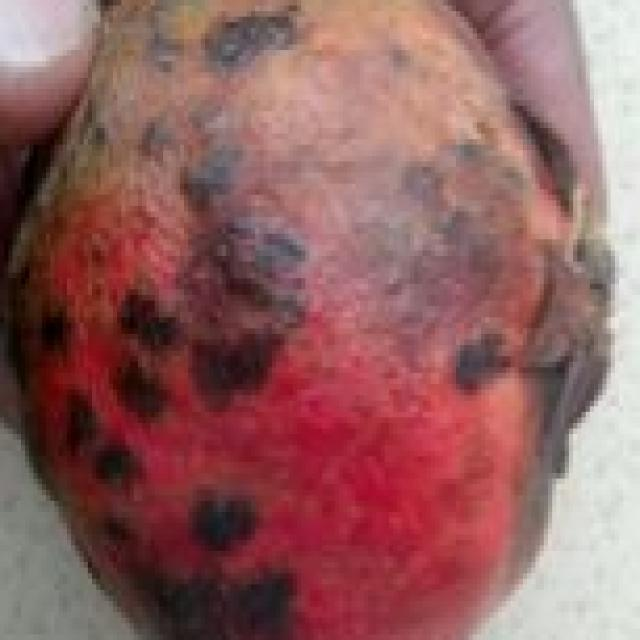Bad_Pomegranate-0-1-day: (0, 0, 607, 640)
